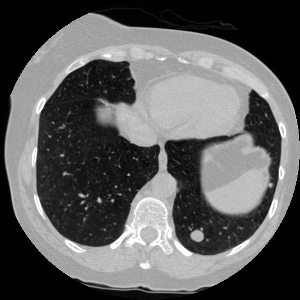nodule: (268, 183, 272, 187)
